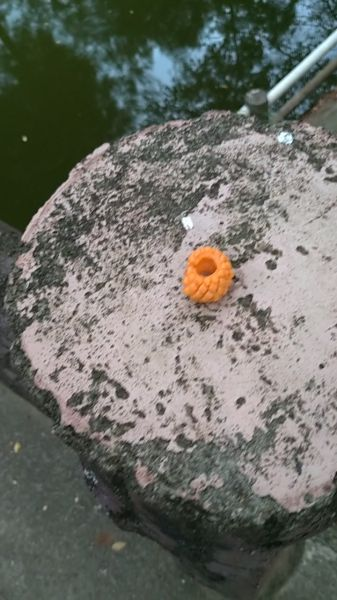eggs: (177, 241, 237, 309)
